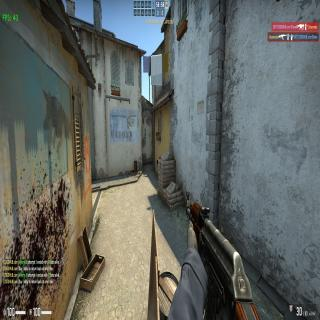CT-Head: (159, 156, 161, 160)
